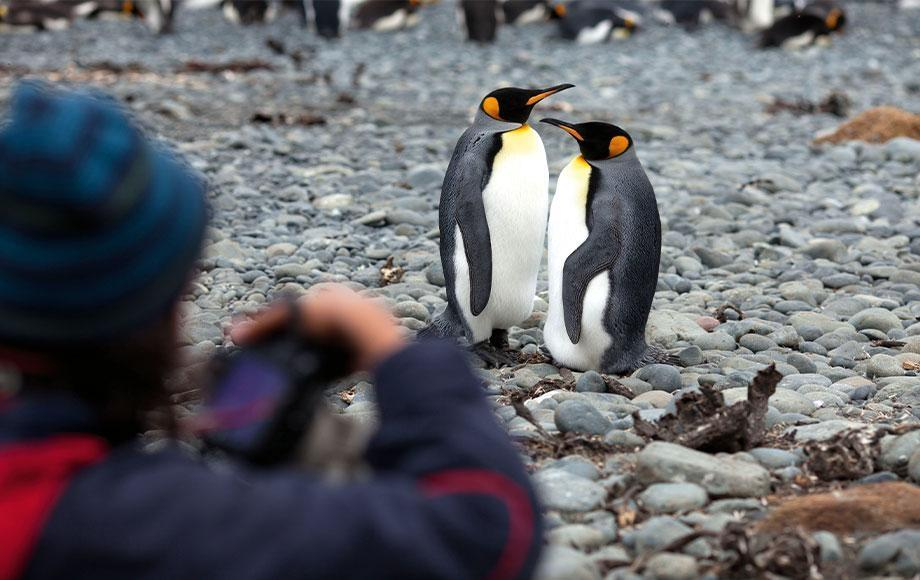Penguin: (431, 84, 572, 344), (544, 119, 670, 374), (758, 0, 848, 50), (541, 0, 644, 43), (634, 0, 726, 36), (352, 0, 430, 35), (451, 0, 499, 51), (122, 0, 176, 45), (213, 0, 273, 38), (729, 0, 776, 39), (308, 0, 352, 41), (503, 0, 550, 31)
